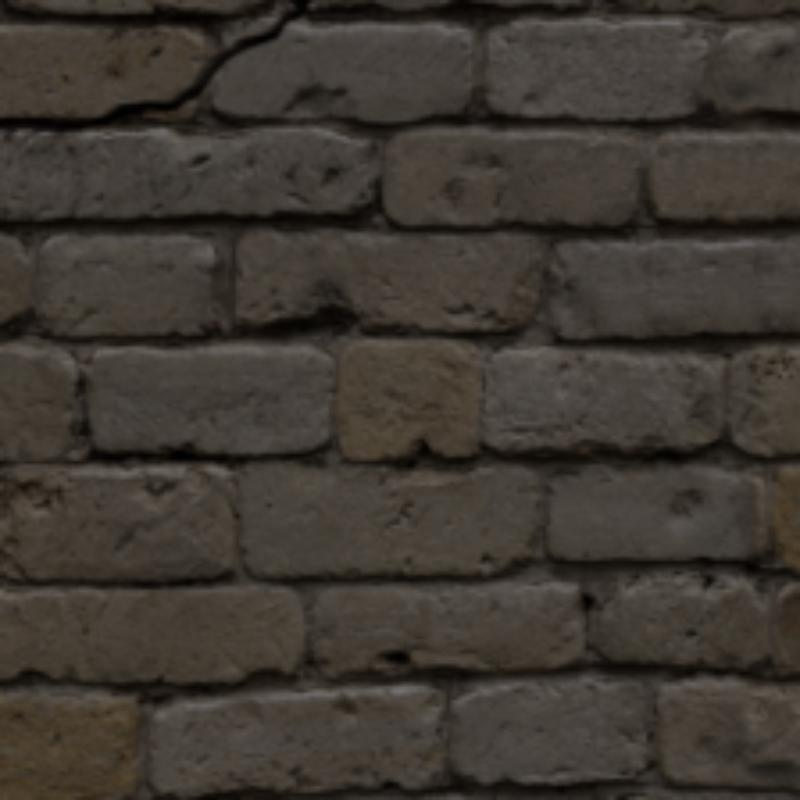pothole: (0, 0, 307, 129)
